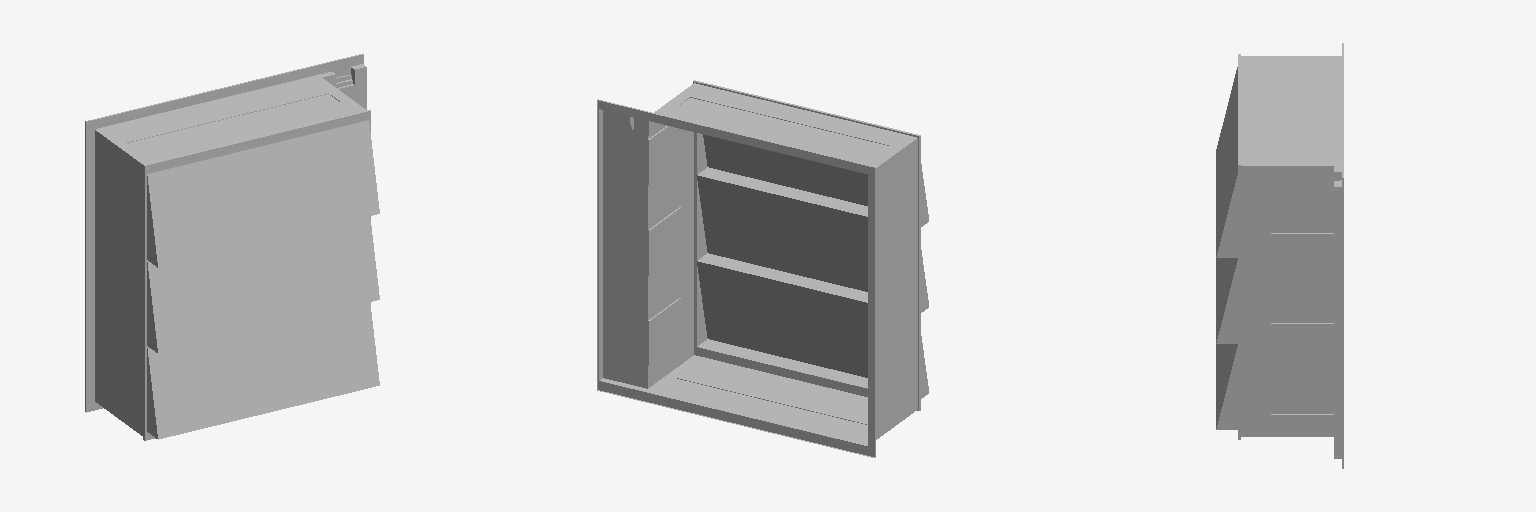
File: igs_factory_1.obj
3 views of the same model, side by side, from view 1: azimuth 30°, elevation 25°; view 2: azimuth 150°, elevation 25°; view 3: azimuth 270°, elevation 25° (orthographic).
Bounding box in the file's own units: 2 × 2 × 0.7941.